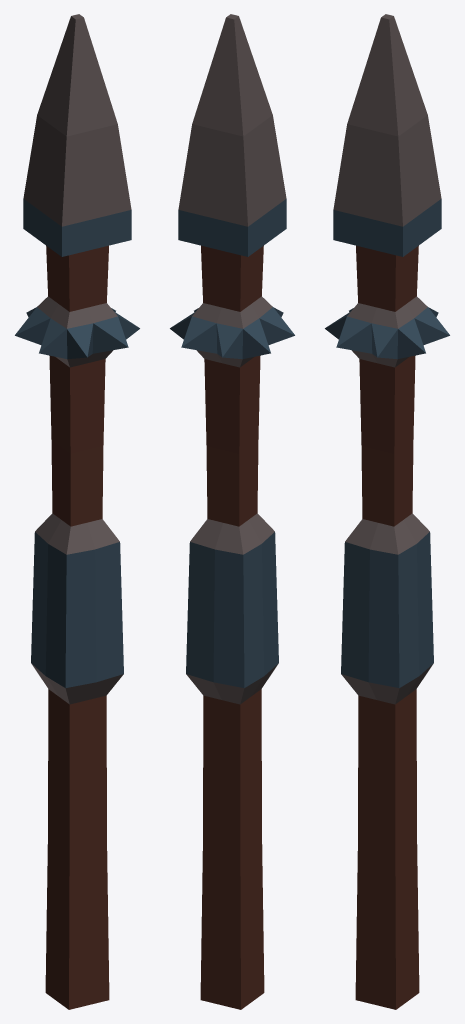
Rendered from Harpoon.fbx.
The picture shows the model from 3 angles, left to right: view 1: azimuth 30°, elevation 25°; view 2: azimuth 150°, elevation 25°; view 3: azimuth 330°, elevation 25°; orthographic projection.
Visible parts, largest first — view 1: Harpoon:Mesh; view 2: Harpoon:Mesh; view 3: Harpoon:Mesh.
Part boxes in pixels (x1,y1,x2,y2): Harpoon:Mesh: (15,14,139,1009); Harpoon:Mesh: (170,14,294,1009); Harpoon:Mesh: (325,14,449,1009).
Bounding box in the file's own units: 0.346 × 3.18 × 0.3606.
